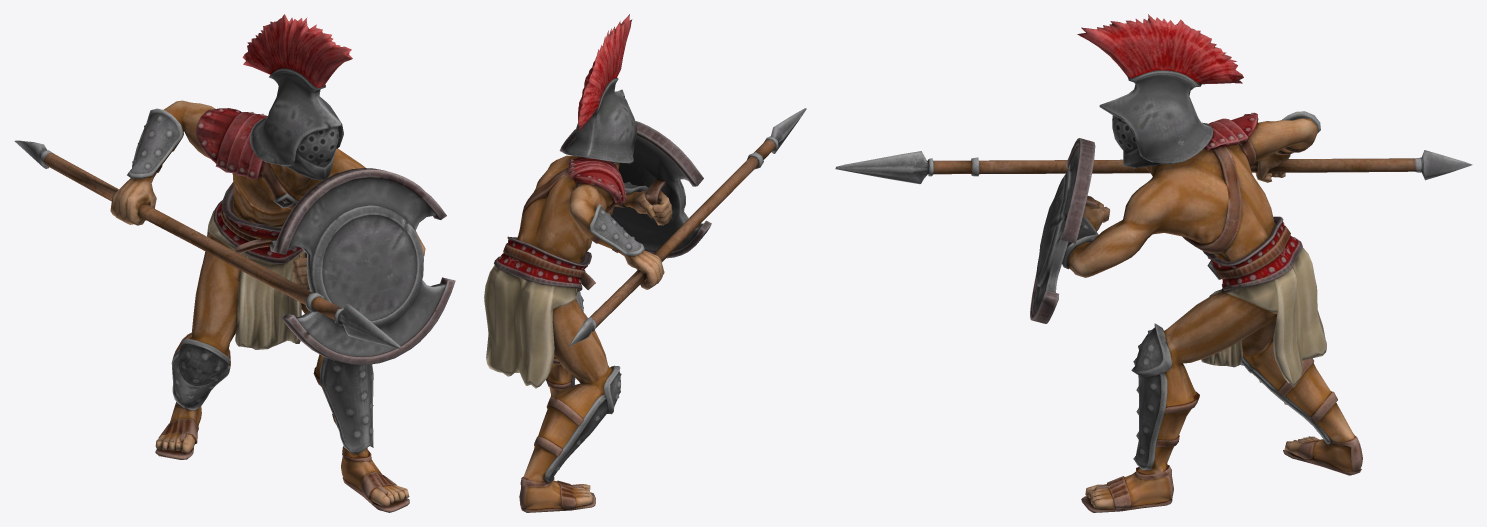
File: MZ4250 - Gladiator Male 01.glb
3 renders of one model, left to right at view 1: azimuth 30°, elevation 25°; view 2: azimuth 150°, elevation 25°; view 3: azimuth 270°, elevation 25°, orthographic. The views are drawn at different scales.
Visible parts, largest first — view 1: GladiatorMale; view 2: GladiatorMale; view 3: GladiatorMale.
Boxes of the visible parts, box(x1,y1,x2,y2) form: GladiatorMale: box(14, 14, 455, 512); GladiatorMale: box(484, 14, 806, 512); GladiatorMale: box(835, 14, 1472, 512).
Bounding box in the file's own units: 0.5143 × 1.07 × 1.34.
Materials: 1 (1 with a texture image).
